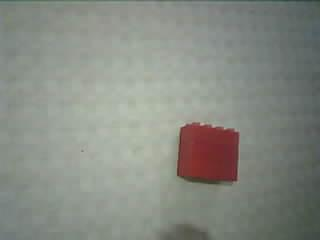lego: (175, 121, 240, 184)
